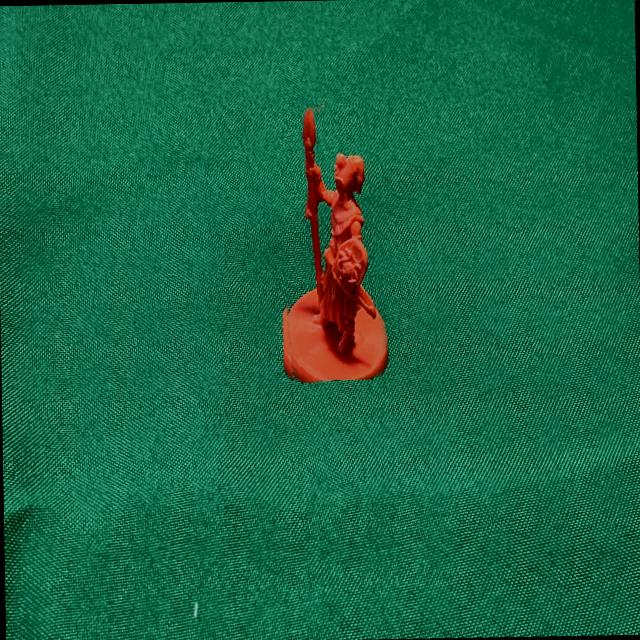amon_follower: (286, 108, 389, 383)
